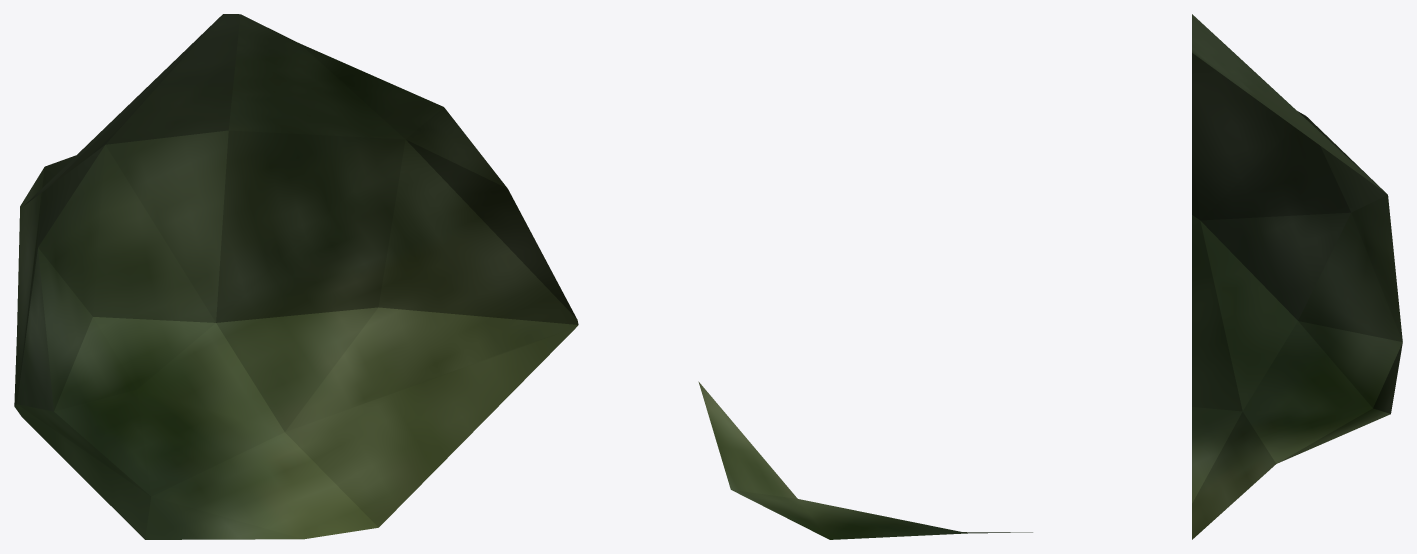
3 views of the same model, side by side, from view 1: azimuth 30°, elevation 25°; view 2: azimuth 150°, elevation 25°; view 3: azimuth 270°, elevation 25° (orthographic). The views are drawn at different scales.
Size of the model in its own units: 0.8672 by 0.8103 by 0.3347.
1 material, 1 textured.
